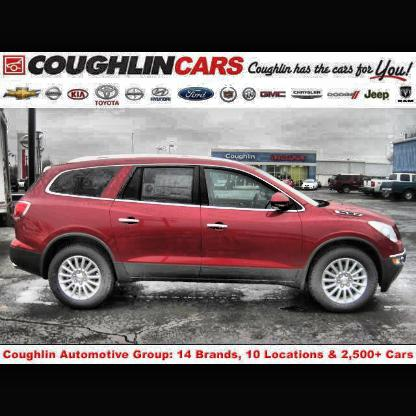Buick Enclave SUV 2012: (13, 162, 408, 314)
